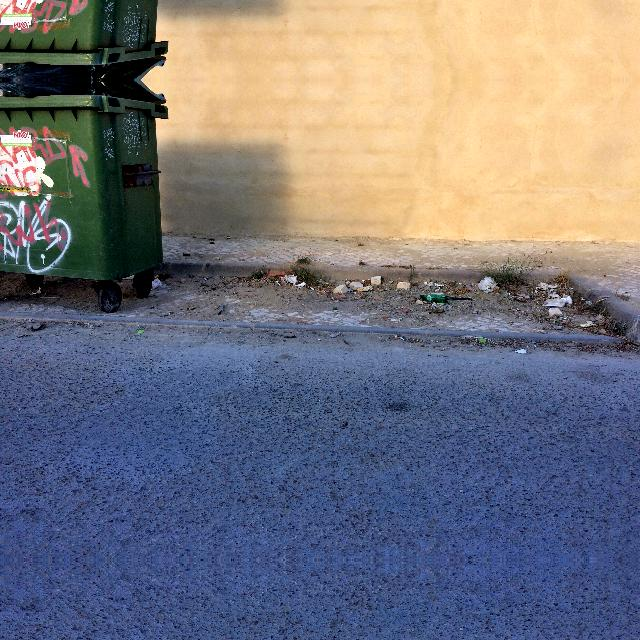Metal: (578, 320, 602, 330)
Paper: (535, 280, 559, 290), (280, 274, 298, 286), (292, 280, 308, 288)
Plastic: (478, 272, 502, 296), (416, 293, 450, 303), (542, 296, 564, 308), (514, 348, 528, 354)
